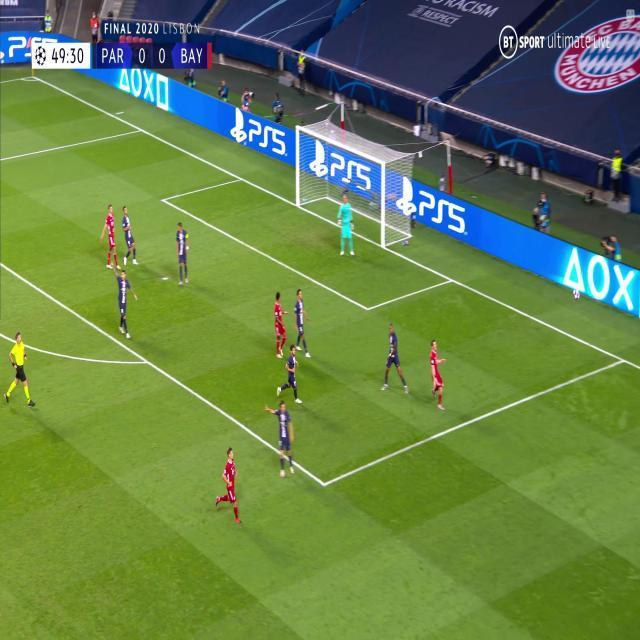goalkeeper: (337, 192, 354, 260)
player: (214, 445, 242, 528), (379, 322, 409, 395), (268, 399, 294, 478), (114, 269, 135, 337), (278, 348, 302, 404), (293, 289, 312, 358), (428, 339, 446, 411), (101, 204, 120, 270), (273, 291, 290, 359), (121, 207, 140, 267), (174, 222, 190, 287)
referee: (5, 332, 37, 411)
